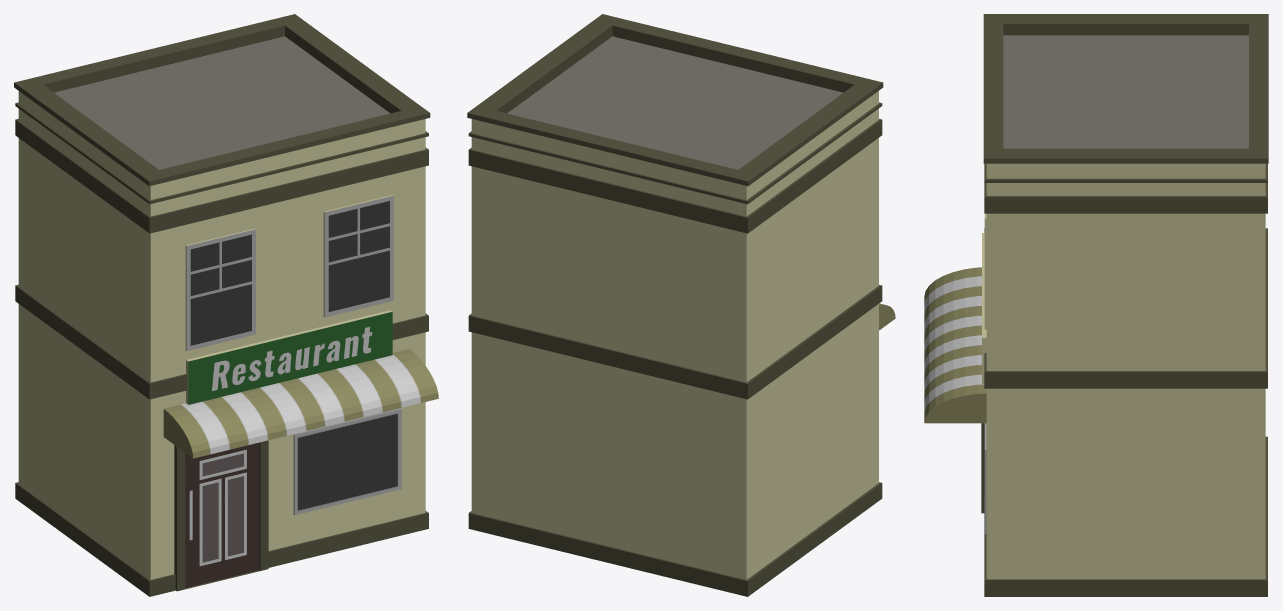
Rendered from building-restaurant.glb.
3 views of the same model, side by side, from view 1: azimuth 30°, elevation 25°; view 2: azimuth 150°, elevation 25°; view 3: azimuth 270°, elevation 25° (orthographic). The views are drawn at different scales.
Parts seen in each view (by area): view 1: Building_Restaurant; view 2: Building_Restaurant; view 3: Building_Restaurant.
Boxes of the visible parts, <box> form: Building_Restaurant: <box>14,14,438,596</box>; Building_Restaurant: <box>467,14,895,596</box>; Building_Restaurant: <box>924,14,1268,596</box>.
Size of the model in its own units: 7.36 by 10.41 by 7.41.
1 material, 1 textured.
